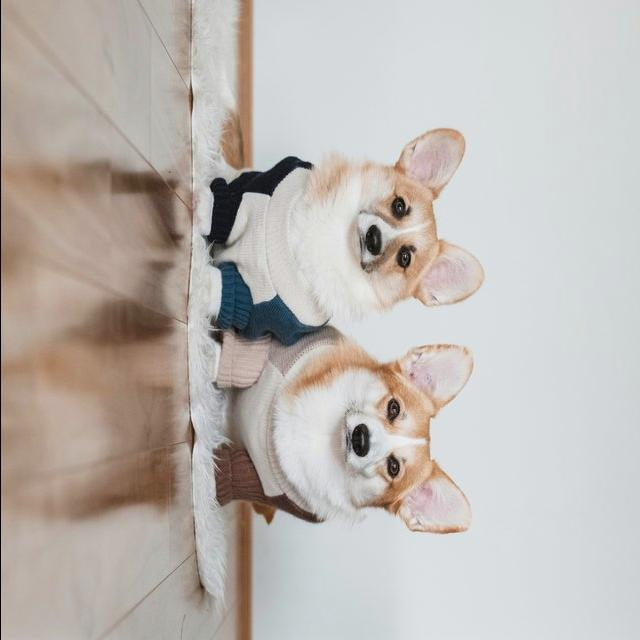corgi: (195, 124, 481, 336), (211, 325, 476, 536)
